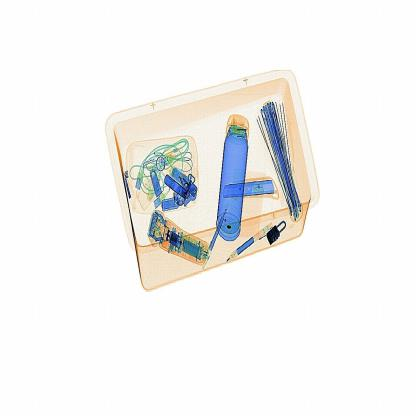pliers: (223, 178, 281, 200)
